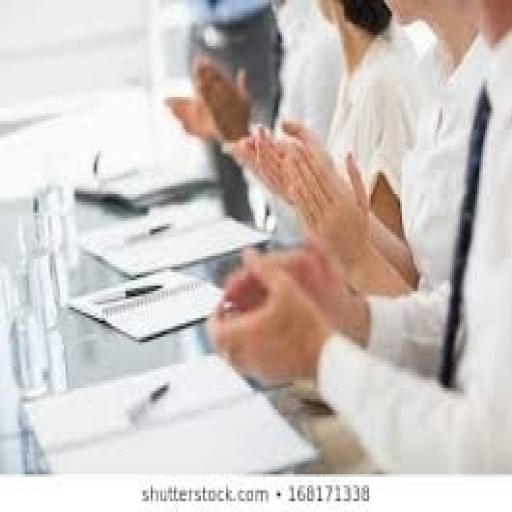clapping: (207, 0, 510, 472)
